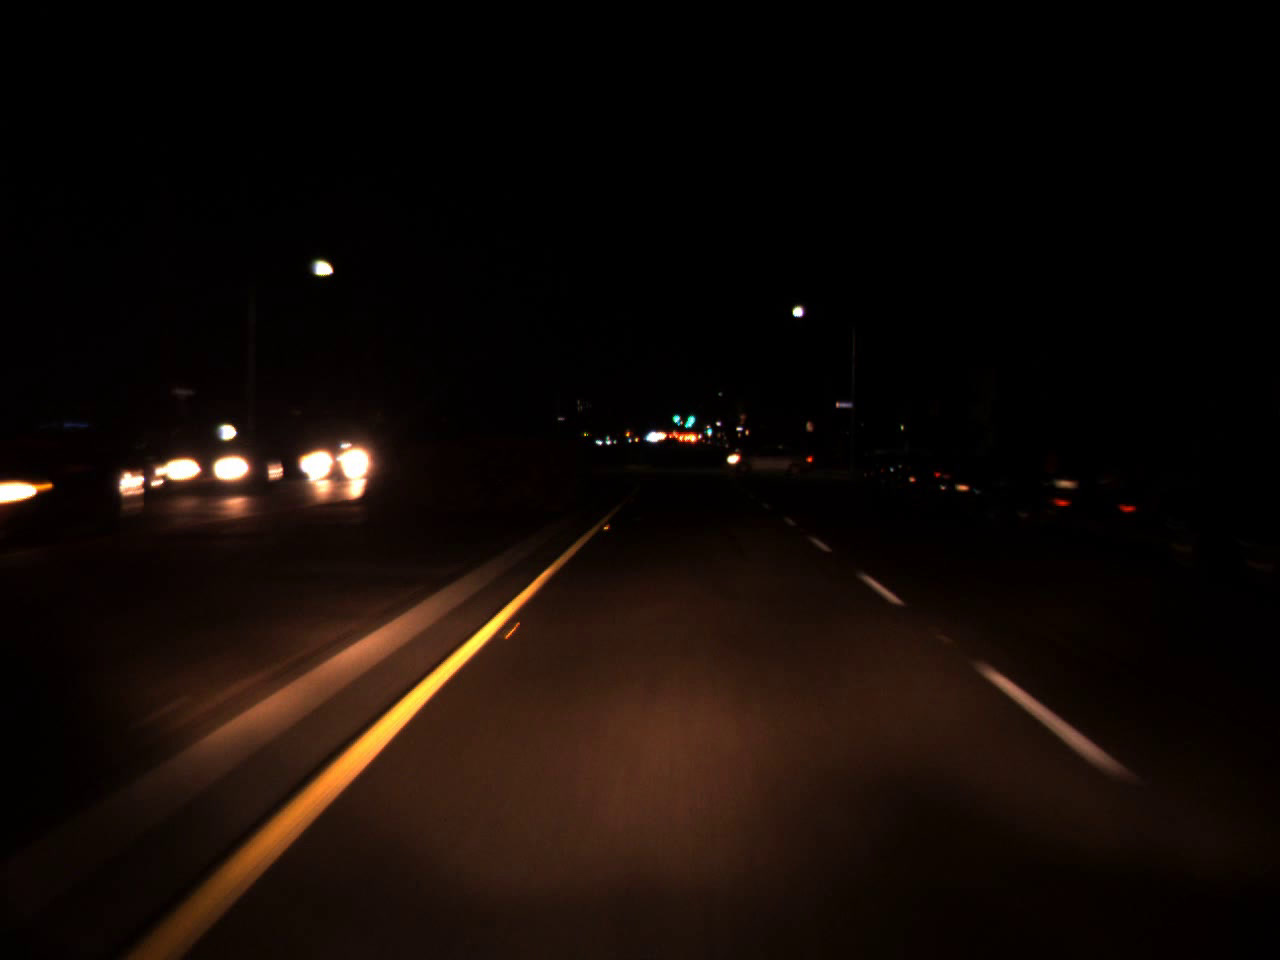go: (680, 398, 696, 434), (670, 407, 679, 425), (705, 422, 712, 434)
